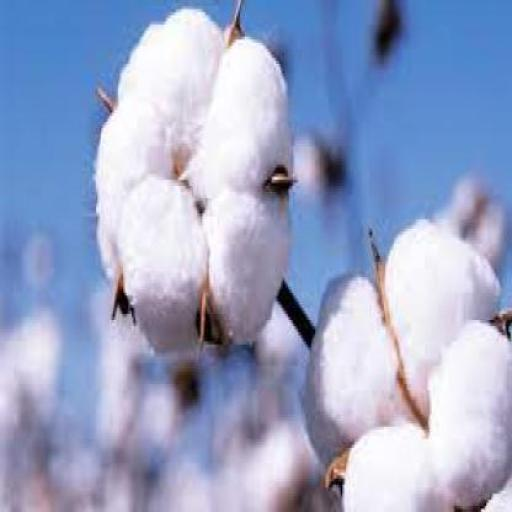cotton_ready: (84, 12, 300, 370), (302, 220, 508, 509)
